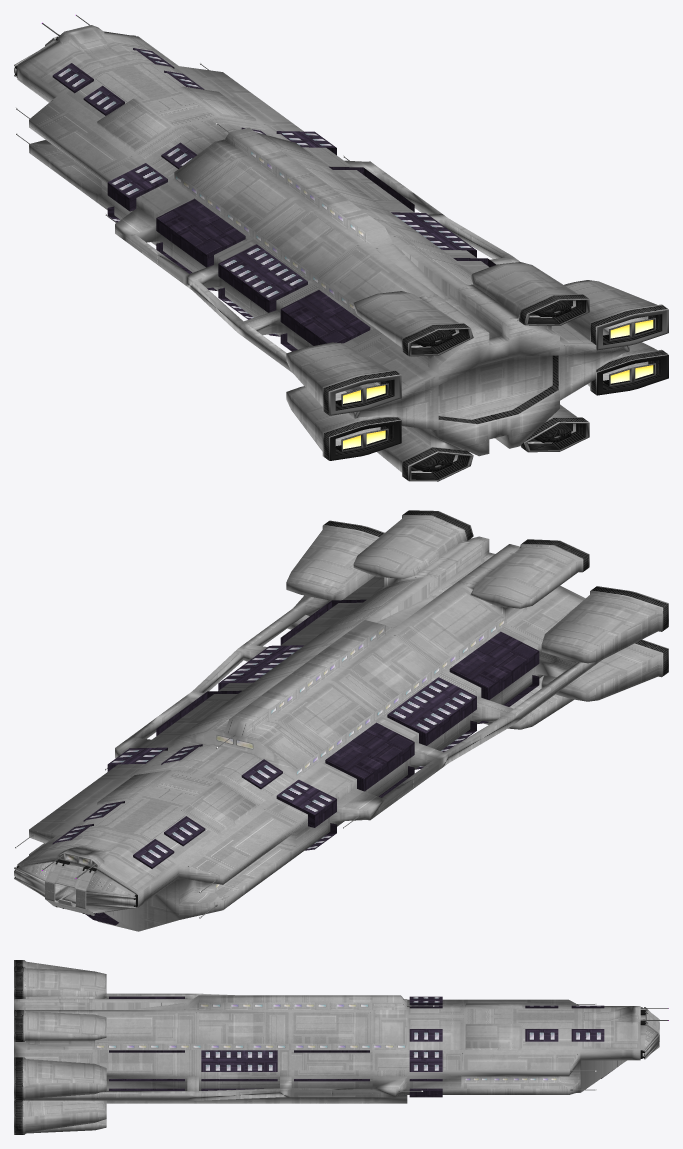
File: star_freighter.glb
The picture shows the model from 3 angles, top to bottom: view 1: azimuth 30°, elevation 25°; view 2: azimuth 150°, elevation 25°; view 3: azimuth 270°, elevation 25°; orthographic projection. The views are drawn at different scales.
Parts seen in each view (by area): view 1: Object_11, Object_12, Object_5, Object_3, Object_6, Object_7, Object_4, Object_2; view 2: Object_11, Object_12, Object_5, Object_4, Object_6; view 3: Object_11, Object_4, Object_5, Object_12, Object_6.
Boxes of the visible parts, <box> form: Object_11: <box>14,25,657,472</box>; Object_12: <box>52,48,496,351</box>; Object_5: <box>53,48,476,336</box>; Object_3: <box>329,300,668,479</box>; Object_6: <box>322,294,668,480</box>; Object_7: <box>42,15,668,481</box>; Object_4: <box>51,144,364,314</box>; Object_2: <box>343,320,653,449</box>; Object_11: <box>14,515,661,931</box>; Object_12: <box>52,599,539,925</box>; Object_5: <box>53,645,476,867</box>; Object_4: <box>66,617,505,891</box>; Object_6: <box>323,510,668,676</box>; Object_11: <box>14,960,659,1134</box>; Object_4: <box>95,1002,558,1097</box>; Object_5: <box>201,996,604,1071</box>; Object_12: <box>109,996,614,1097</box>; Object_6: <box>14,960,24,1134</box>.
Bounding box in the file's own units: 25.2 × 10.78 × 56.64.
12 materials, 8 textured.
